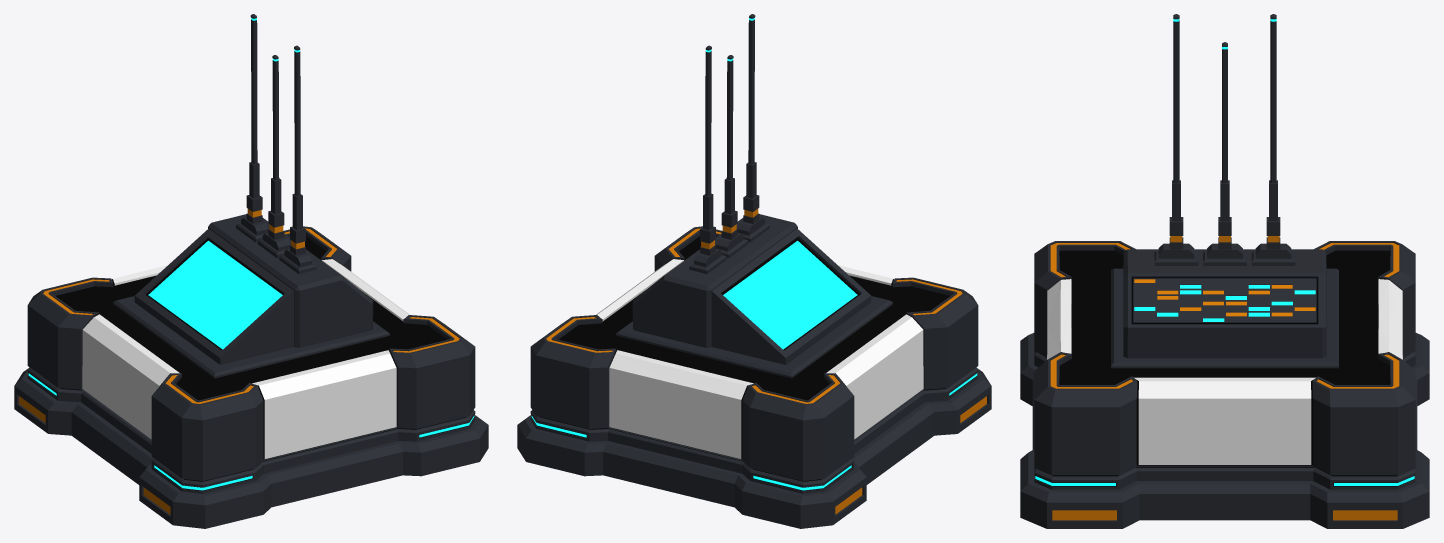
File: SM_Tactical_RadioUnit.fbx
The picture shows the model from 3 angles, left to right: view 1: azimuth 30°, elevation 25°; view 2: azimuth 150°, elevation 25°; view 3: azimuth 270°, elevation 25°; orthographic projection. The views are drawn at different scales.
Parts seen in each view (by area): view 1: SM_Tactical_RadioUnit; view 2: SM_Tactical_RadioUnit; view 3: SM_Tactical_RadioUnit.
Boxes of the visible parts, x1,y1,x2,y2 form: SM_Tactical_RadioUnit: (14, 14, 488, 528); SM_Tactical_RadioUnit: (517, 14, 991, 528); SM_Tactical_RadioUnit: (1020, 14, 1429, 528).
Bounding box in the file's own units: 50 × 59.44 × 50.
